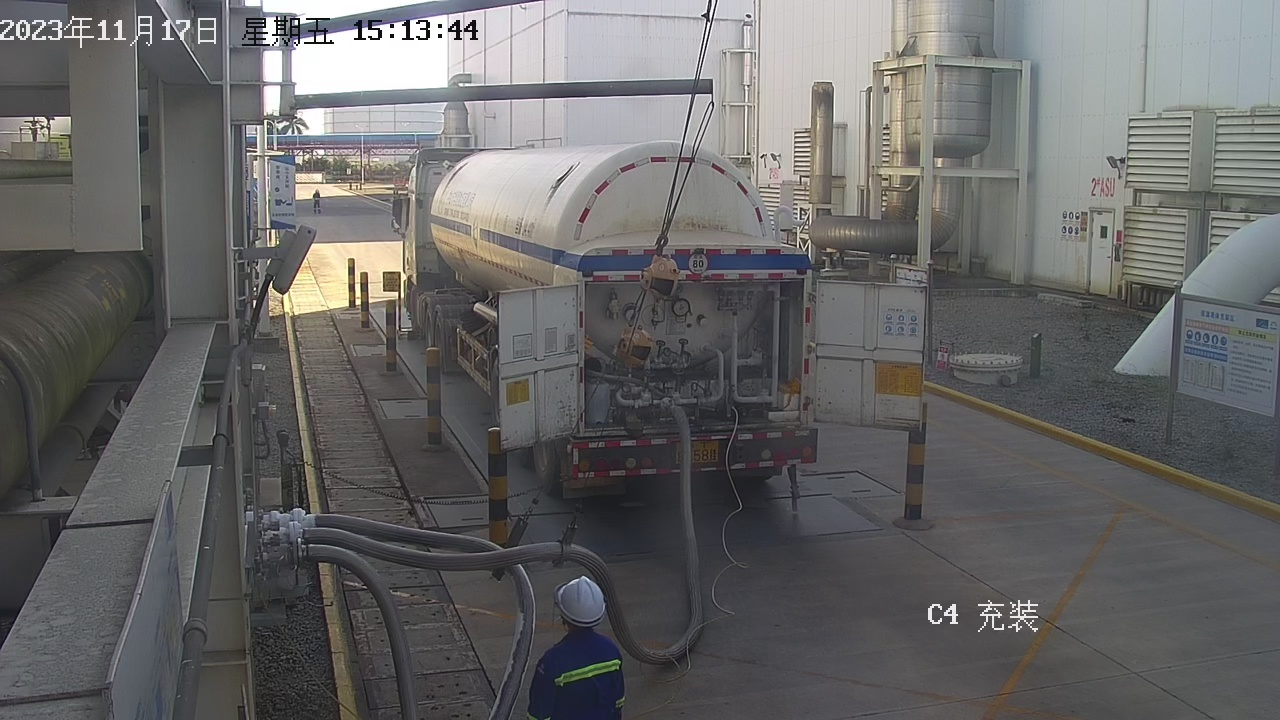Head_with_Helmet: (533, 567, 617, 631), (313, 188, 321, 196)
Uniform: (512, 616, 647, 720), (307, 193, 325, 215)
